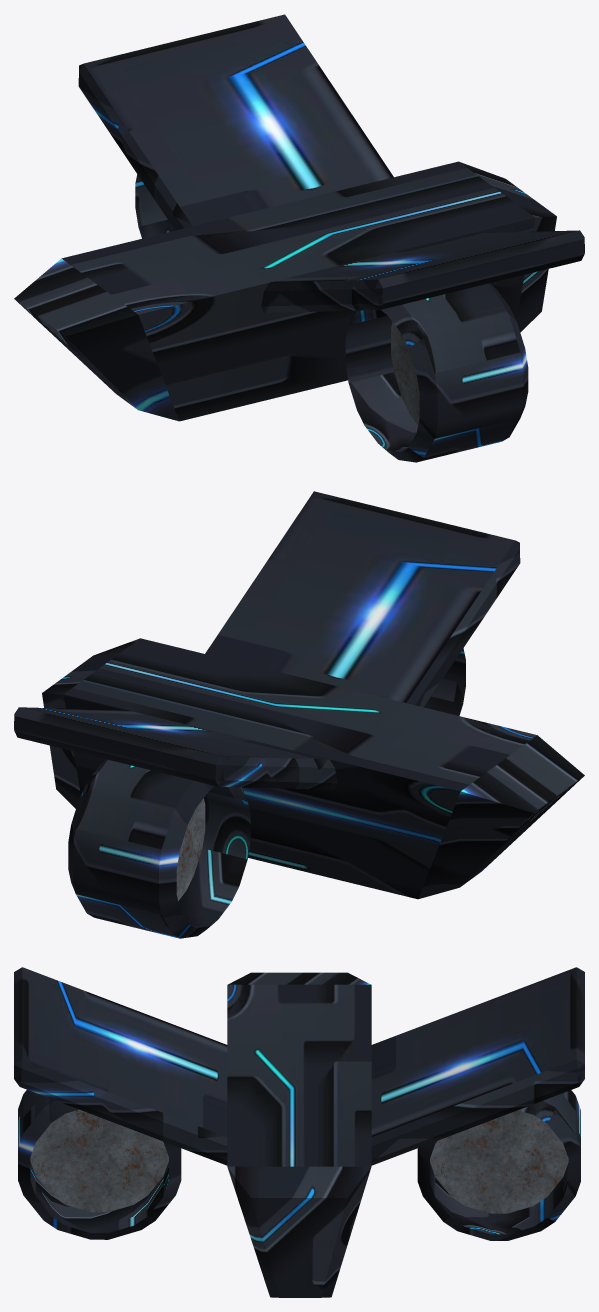
Rendered from Drone1_Textured.fbx.
3 views of the same model, one above another, from view 1: azimuth 30°, elevation 25°; view 2: azimuth 150°, elevation 25°; view 3: azimuth 270°, elevation 25° (orthographic). The views are drawn at different scales.
Parts seen in each view (by area): view 1: pasted__pCube17, pasted__pasted__pCube18, pasted__pasted__pasted__pCylinder5, pasted__pasted__pasted__pCube18, pasted__pasted__pCylinder5; view 2: pasted__pCube17, pasted__pasted__pasted__pCube18, pasted__pasted__pCylinder5, pasted__pasted__pCube18, pasted__pasted__pasted__pCylinder5; view 3: pasted__pCube17, pasted__pasted__pCube18, pasted__pasted__pasted__pCube18, pasted__pasted__pCylinder5, pasted__pasted__pasted__pCylinder5.
Part boxes in pixels (left/top/right/bottom): pasted__pCube17: left=14, top=161, right=556, bottom=421; pasted__pasted__pCube18: left=78, top=14, right=393, bottom=230; pasted__pasted__pasted__pCylinder5: left=345, top=283, right=528, bottom=462; pasted__pasted__pasted__pCube18: left=261, top=230, right=584, bottom=312; pasted__pasted__pCylinder5: left=135, top=174, right=174, bottom=238; pasted__pCube17: left=42, top=638, right=584, bottom=899; pasted__pasted__pasted__pCube18: left=205, top=491, right=520, bottom=707; pasted__pasted__pCylinder5: left=68, top=759, right=250, bottom=938; pasted__pasted__pCube18: left=14, top=707, right=337, bottom=789; pasted__pasted__pasted__pCylinder5: left=424, top=648, right=465, bottom=715; pasted__pCube17: left=227, top=972, right=371, bottom=1297; pasted__pasted__pCube18: left=371, top=967, right=584, bottom=1165; pasted__pasted__pasted__pCube18: left=14, top=967, right=227, bottom=1165; pasted__pasted__pCylinder5: left=417, top=1090, right=580, bottom=1240; pasted__pasted__pasted__pCylinder5: left=18, top=1090, right=181, bottom=1239.
Bounding box in the file's own units: 16.93 × 7.3 × 18.13.
2 materials, 2 textured.
